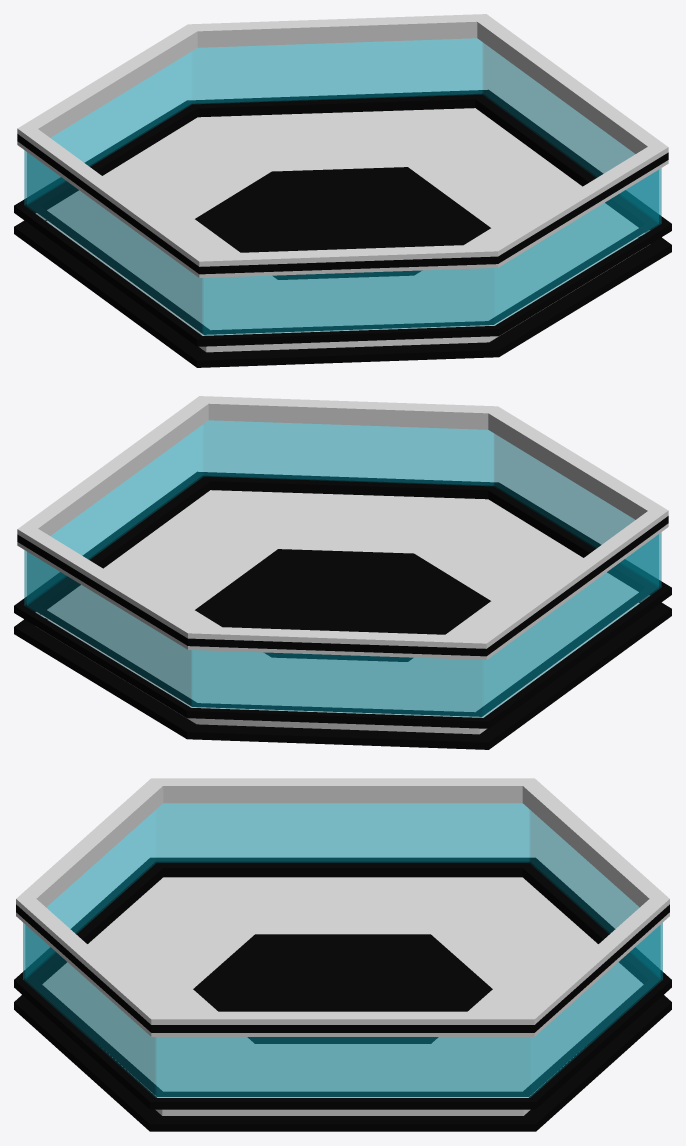
File: Start_Platform.fbx
3 views of the same model, one above another, from view 1: azimuth 30°, elevation 25°; view 2: azimuth 150°, elevation 25°; view 3: azimuth 270°, elevation 25° (orthographic). The views are drawn at different scales.
Visible parts, largest first — view 1: moving_platform; view 2: moving_platform; view 3: moving_platform.
Boxes of the visible parts, x1,y1,x2,y2 form: moving_platform: (14, 14, 671, 367); moving_platform: (14, 396, 671, 749); moving_platform: (14, 778, 671, 1131).
Size of the model in its own units: 3.51 by 0.7436 by 4.
